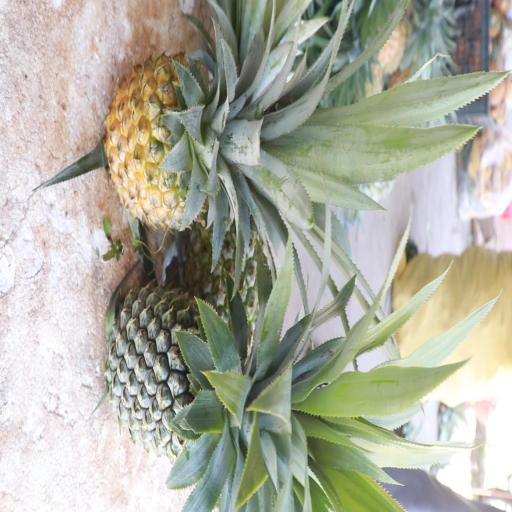Pineapple - v8 v1: (101, 49, 302, 236)
